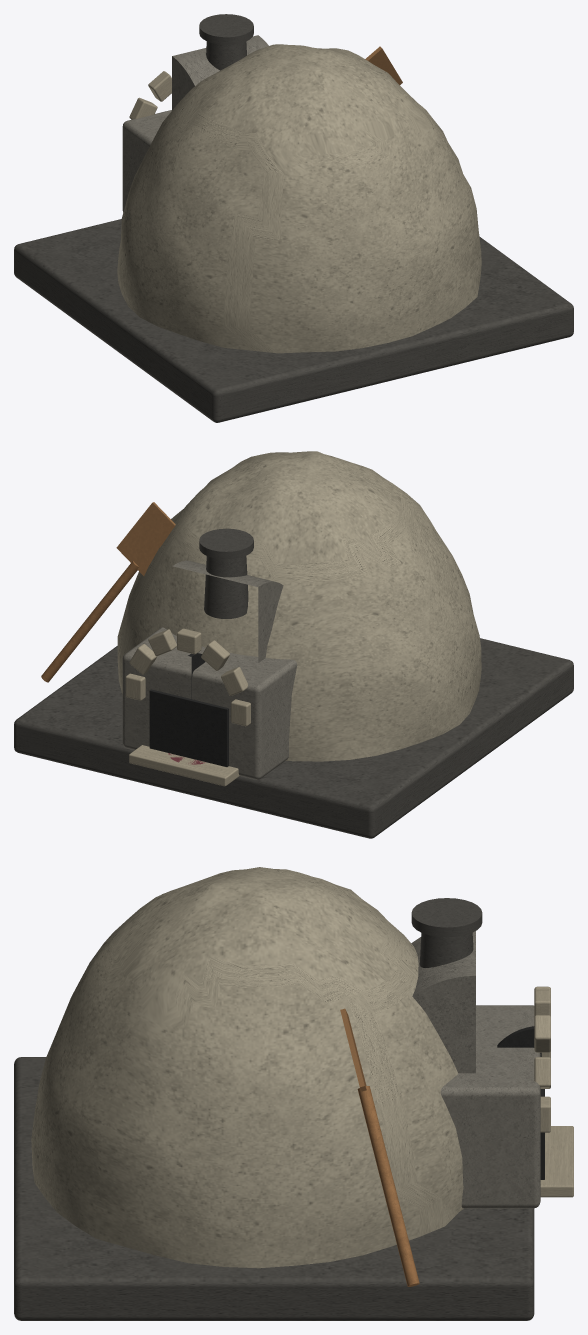
File: bread_oven.glb
The picture shows the model from 3 angles, top to bottom: view 1: azimuth 30°, elevation 25°; view 2: azimuth 150°, elevation 25°; view 3: azimuth 270°, elevation 25°; orthographic projection. The views are drawn at different scales.
Parts seen in each view (by area): view 1: bread_oven; view 2: bread_oven; view 3: bread_oven.
Boxes of the visible parts, left/top/right/bottom form: bread_oven: left=14, top=14, right=573, bottom=422; bread_oven: left=14, top=451, right=573, bottom=838; bread_oven: left=14, top=867, right=573, bottom=1320.
Bounding box in the file's own units: 2.8 × 1.8 × 2.8.
1 material, 1 textured.
